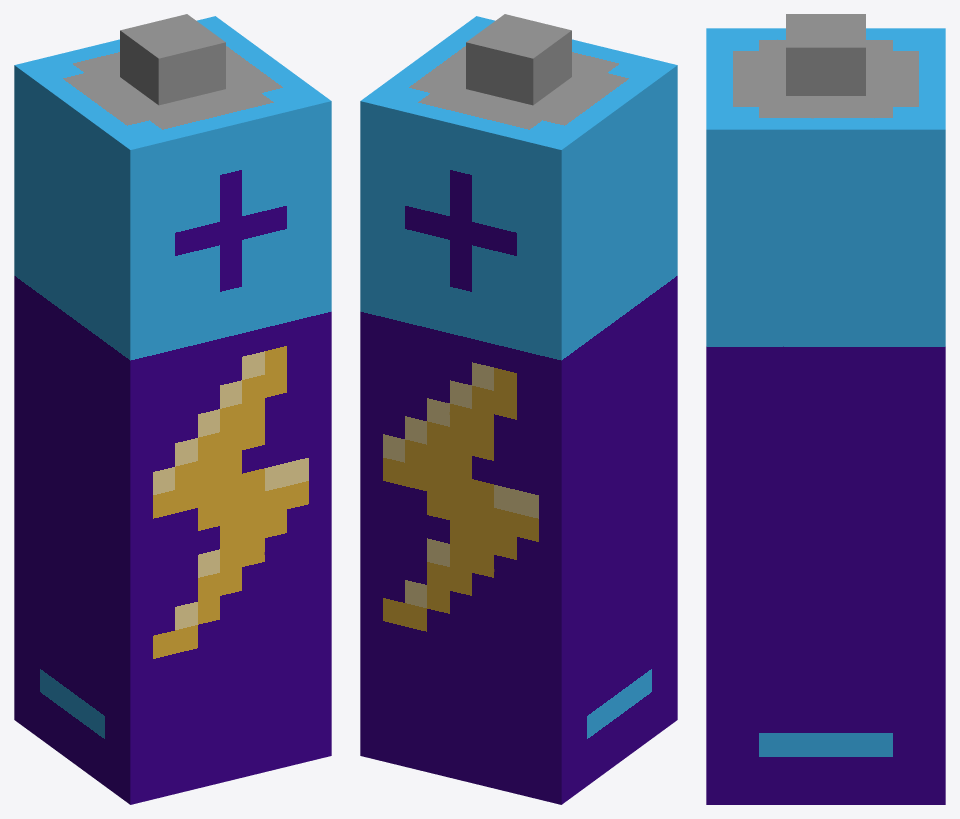
Rendered from Battery01.fbx.
The picture shows the model from 3 angles, left to right: view 1: azimuth 30°, elevation 25°; view 2: azimuth 150°, elevation 25°; view 3: azimuth 270°, elevation 25°; orthographic projection. The views are drawn at different scales.
Parts seen in each view (by area): view 1: Matrix; view 2: Matrix; view 3: Matrix.
Part boxes in pixels (<box>): Matrix: <box>14,14,331,804</box>; Matrix: <box>360,14,677,804</box>; Matrix: <box>706,14,945,804</box>.
Bounding box in the file's own units: 9 × 30 × 9.
